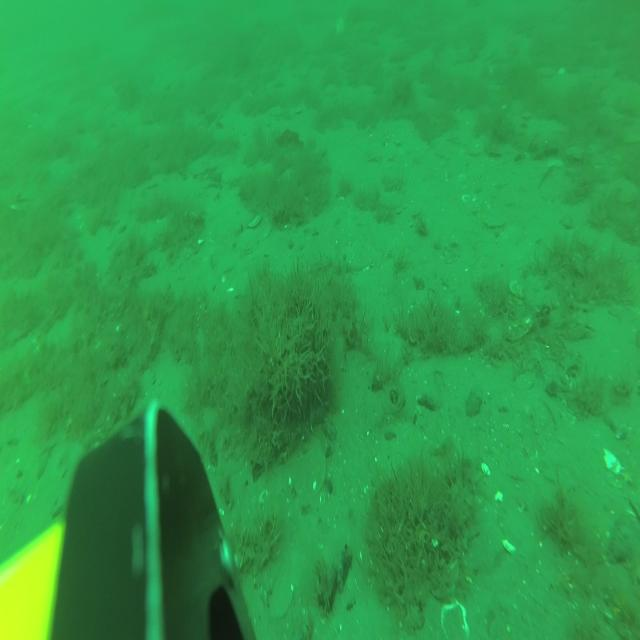scallop: (292, 435, 324, 502), (442, 600, 469, 640), (269, 581, 293, 621), (238, 230, 258, 253), (484, 212, 506, 230)
